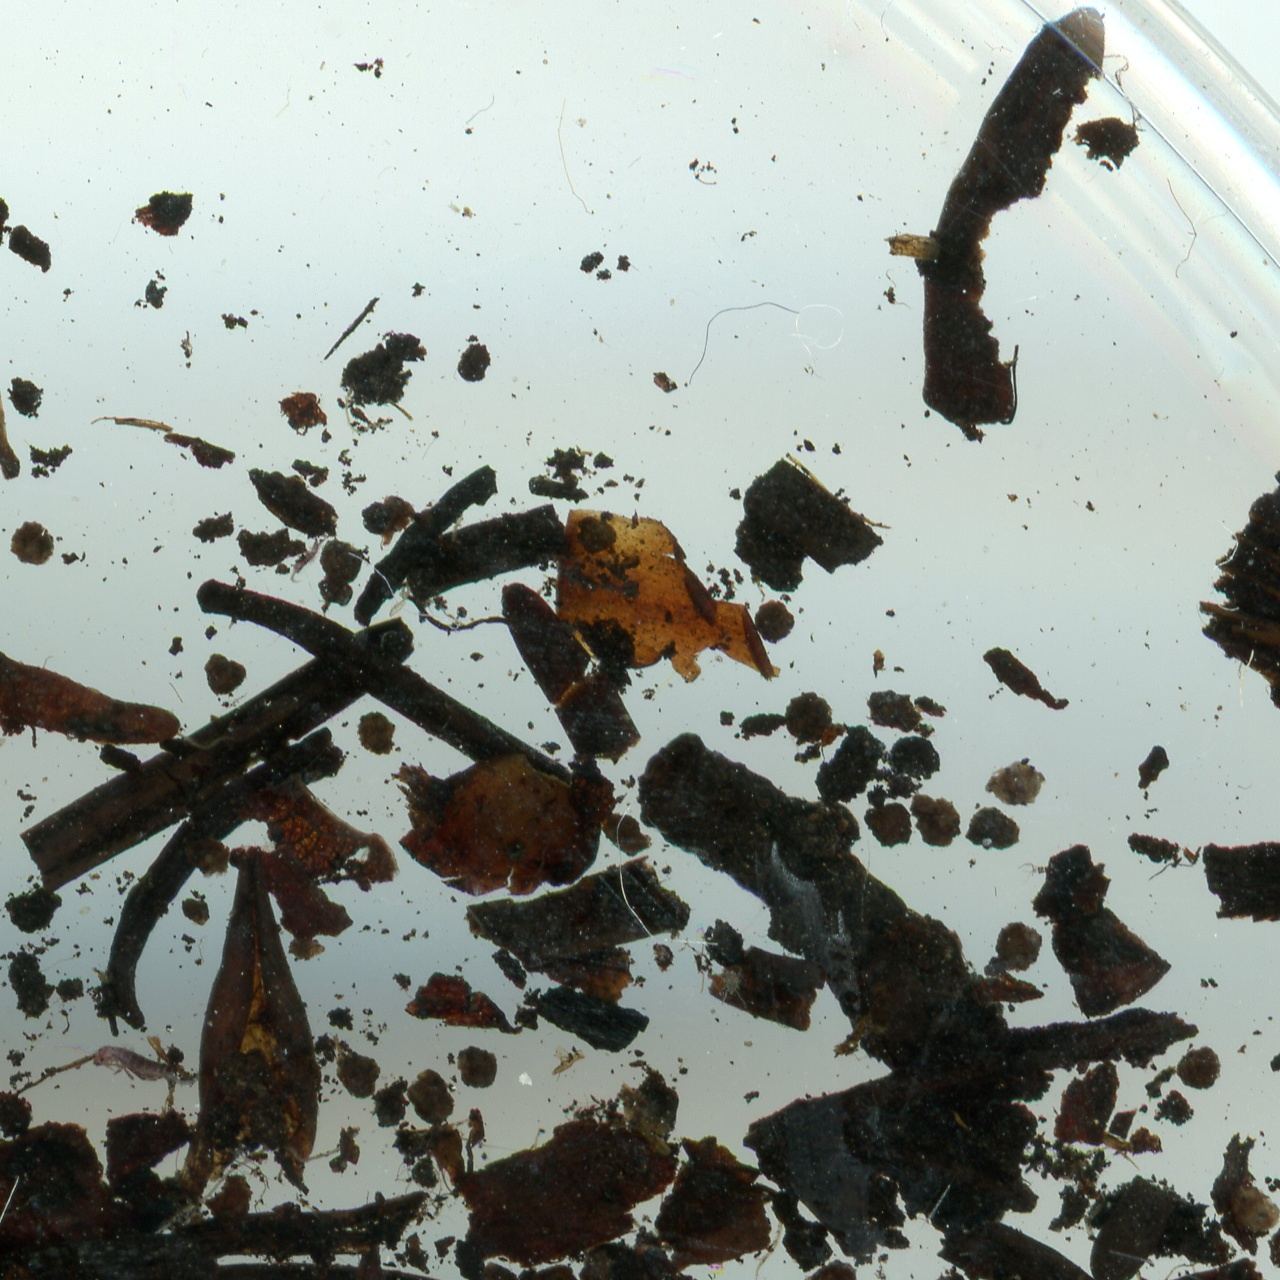arthropod: (87, 1043, 199, 1084)
